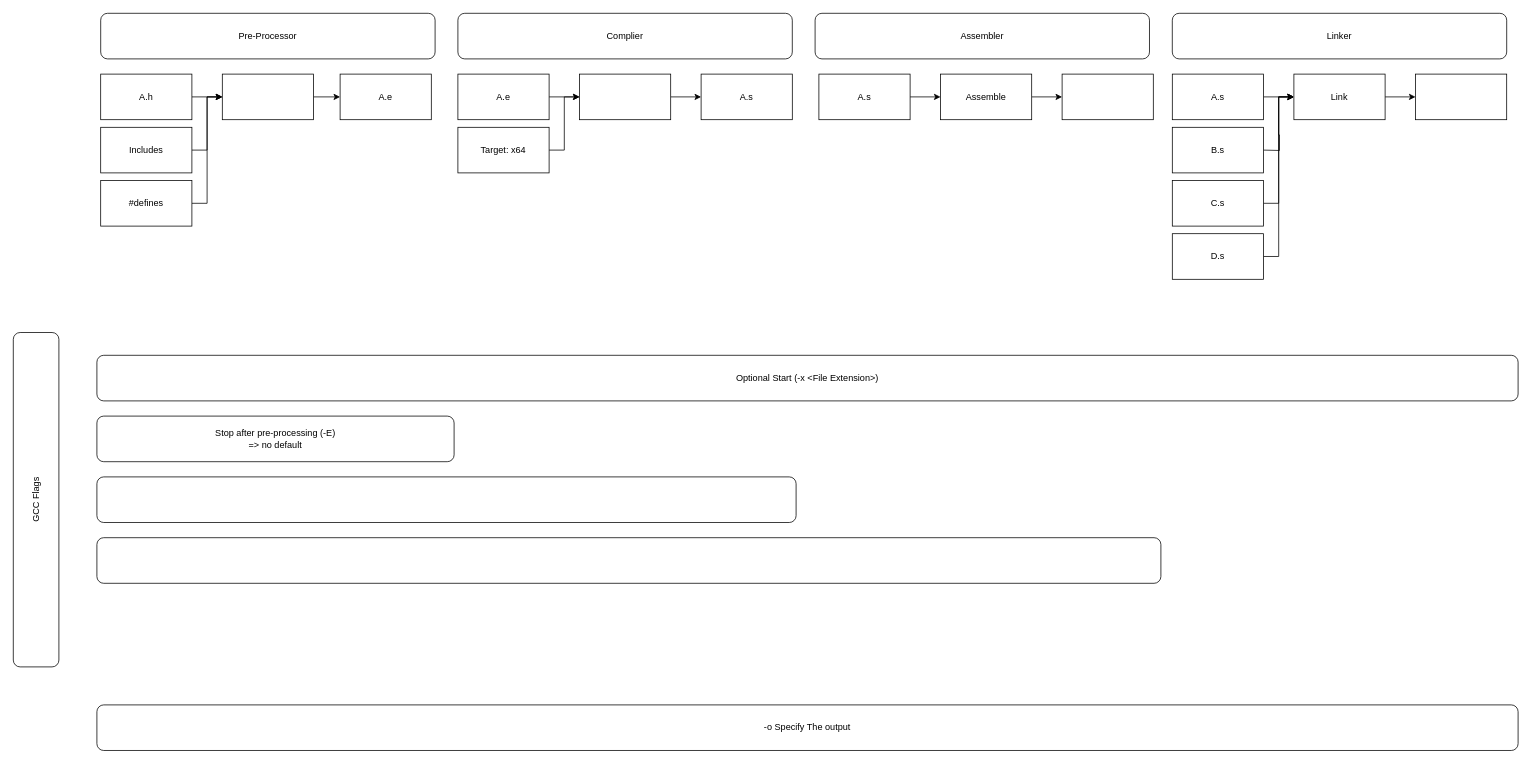
Some shapes in this 1531 by 764 pixel diagram are drawn without their labels. Here are the shapes that lost their labels. From the top down, the centre of each, then its label:
At (268,96): "A.c".
At (625,96): "Compile".
At (1107,96): "A.o".
At (1461,96): "executable".
At (446,499): "Strop after compilation (-S) => .s".
At (628,560): "Stop after assemblation (-c) => .o".
